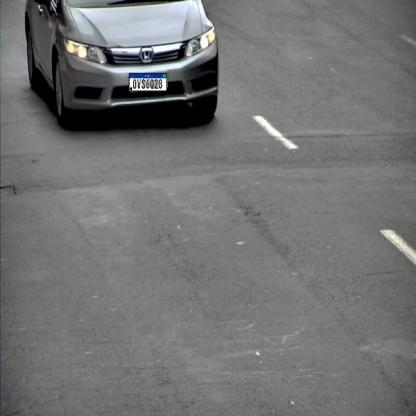PlacaM: (129, 73, 167, 91)
